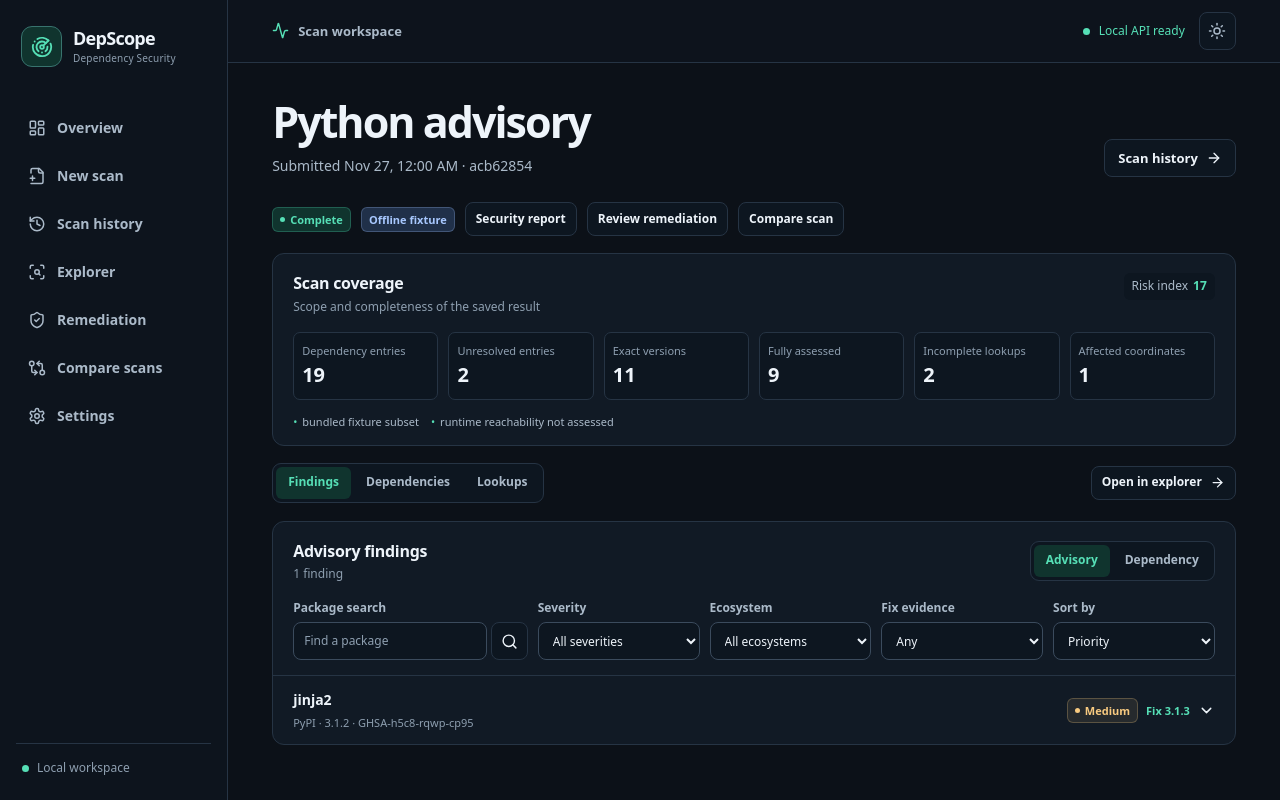
Scan workflows › renders saved entries and coordinate diagnostics
Click the button "Dependencies" at [408, 483], box [354,467,462,499]
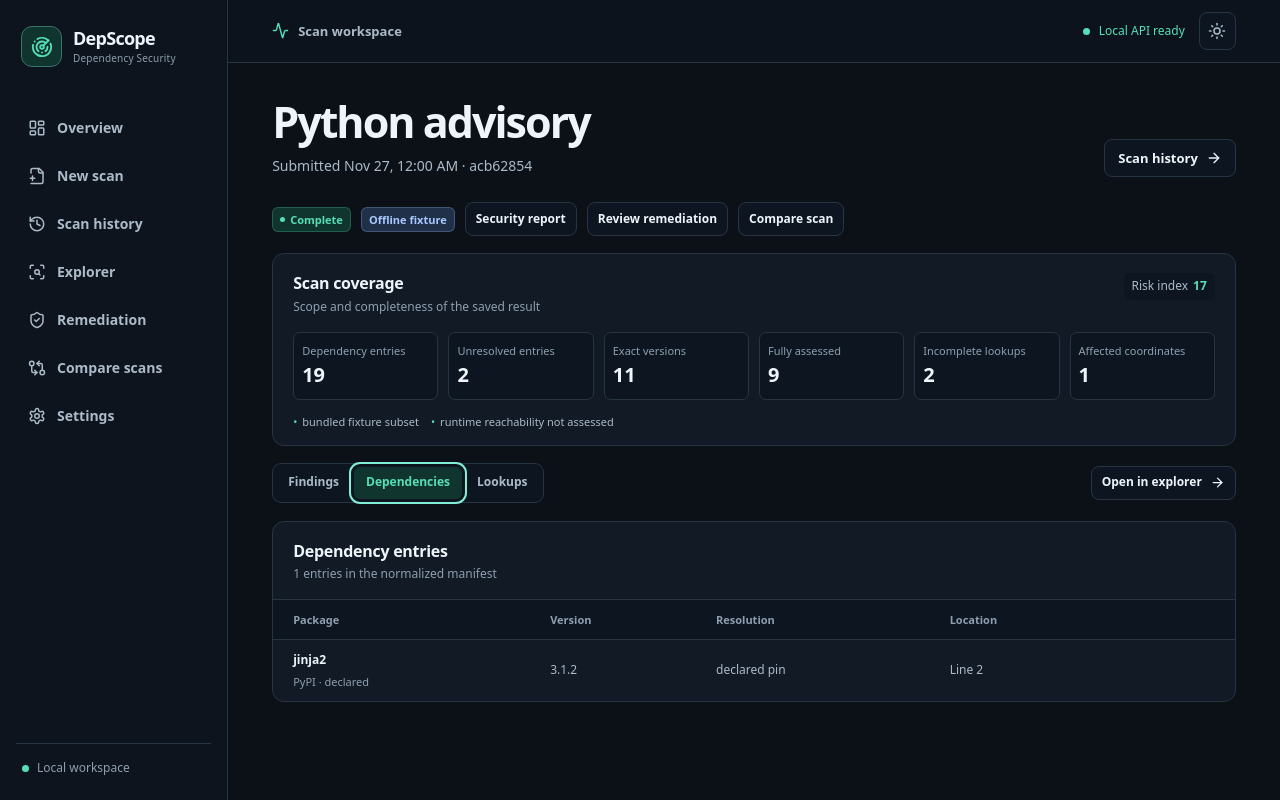
Now the text "Line 2" is shown, box [936,639,1235,700]
Click the button "Lookups" at [502, 483], box [465,467,540,499]
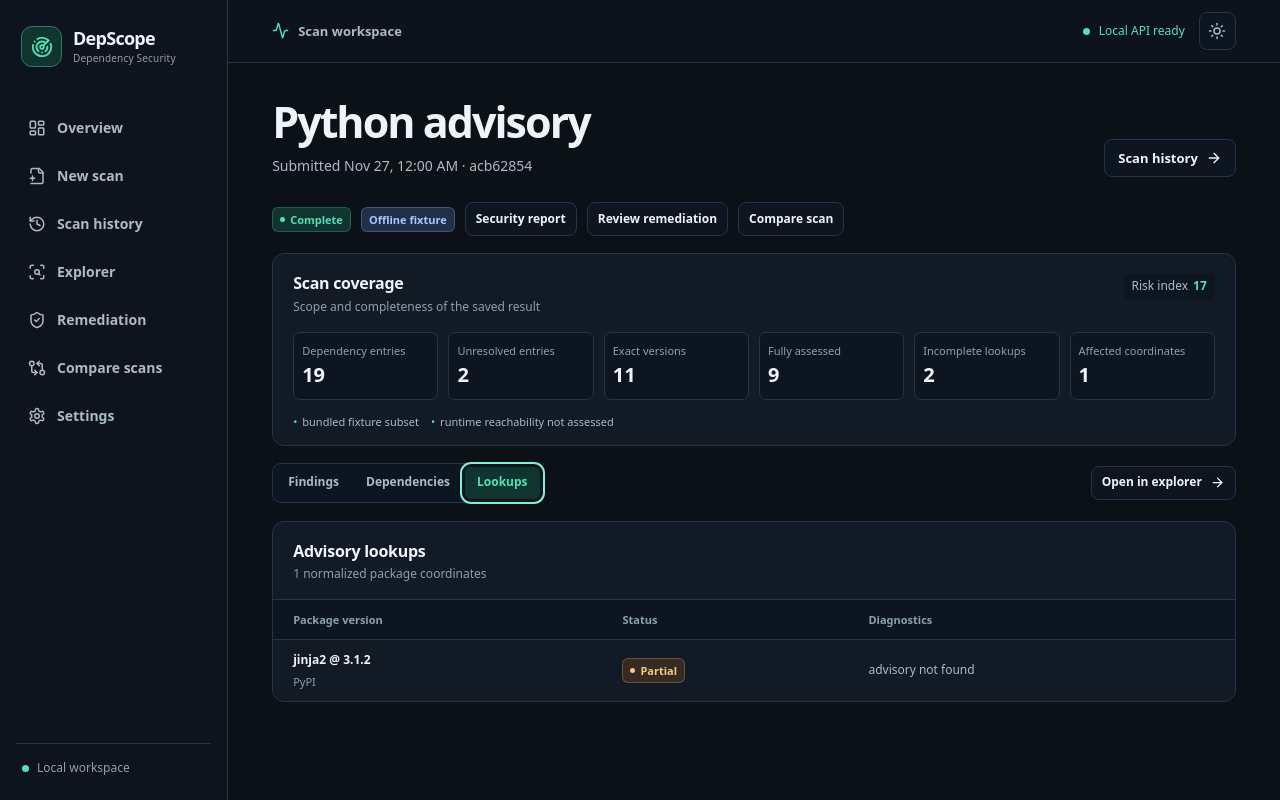
Now the text "advisory not found" is shown, box [854,639,1235,700]
